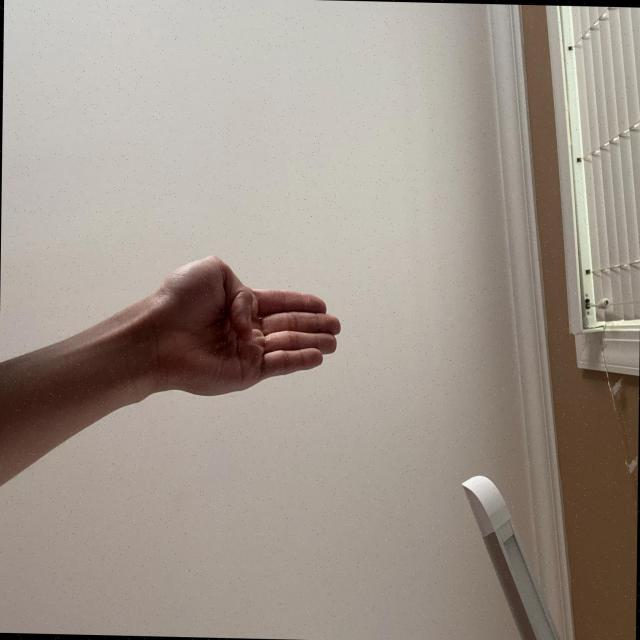B: (347, 394, 462, 640)
